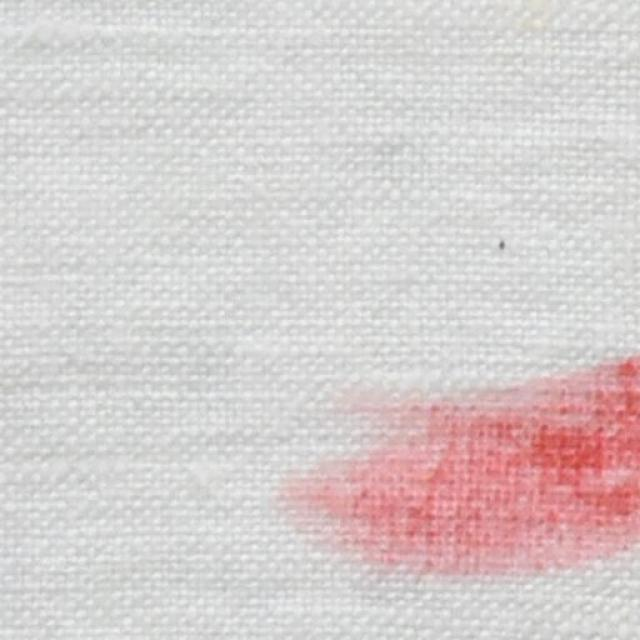Stain: (286, 355, 640, 583)
